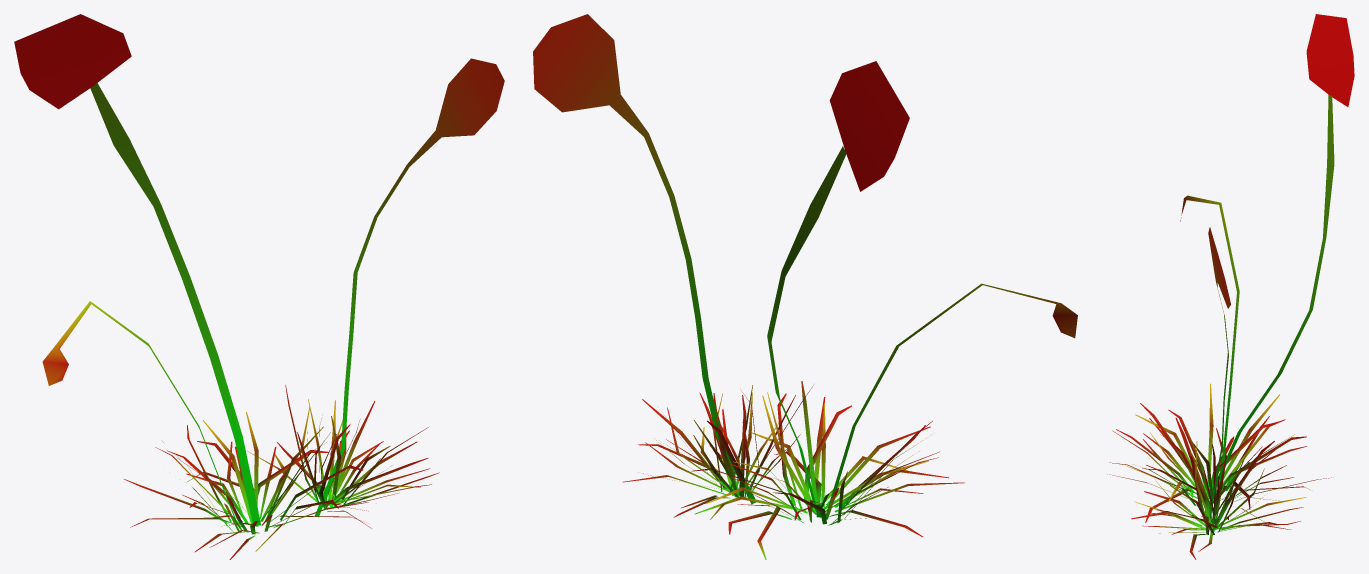
The model's file is Var8_LOD3.fbx.
3 renders of one model, left to right at view 1: azimuth 30°, elevation 25°; view 2: azimuth 150°, elevation 25°; view 3: azimuth 270°, elevation 25°, orthographic. The views are drawn at different scales.
Visible parts, largest first — view 1: _5aml_Var8_LOD3; view 2: _5aml_Var8_LOD3; view 3: _5aml_Var8_LOD3.
Boxes of the visible parts, box(x1,y1,x2,y2) form: _5aml_Var8_LOD3: box(14, 14, 504, 559); _5aml_Var8_LOD3: box(533, 14, 1077, 559); _5aml_Var8_LOD3: box(1107, 14, 1354, 559).
Size of the model in its own units: 13.36 by 13.19 by 6.73.
